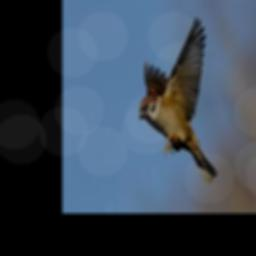Sparrow: (139, 17, 217, 185)
